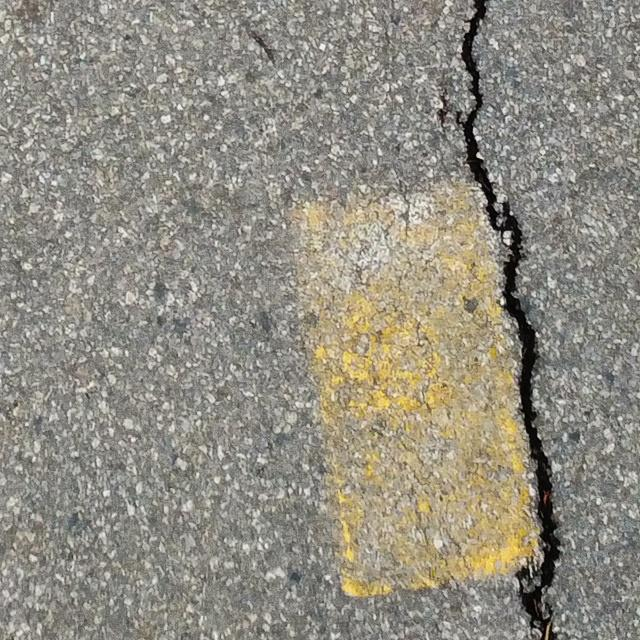LongitudinalCrack: (452, 1, 560, 640)
